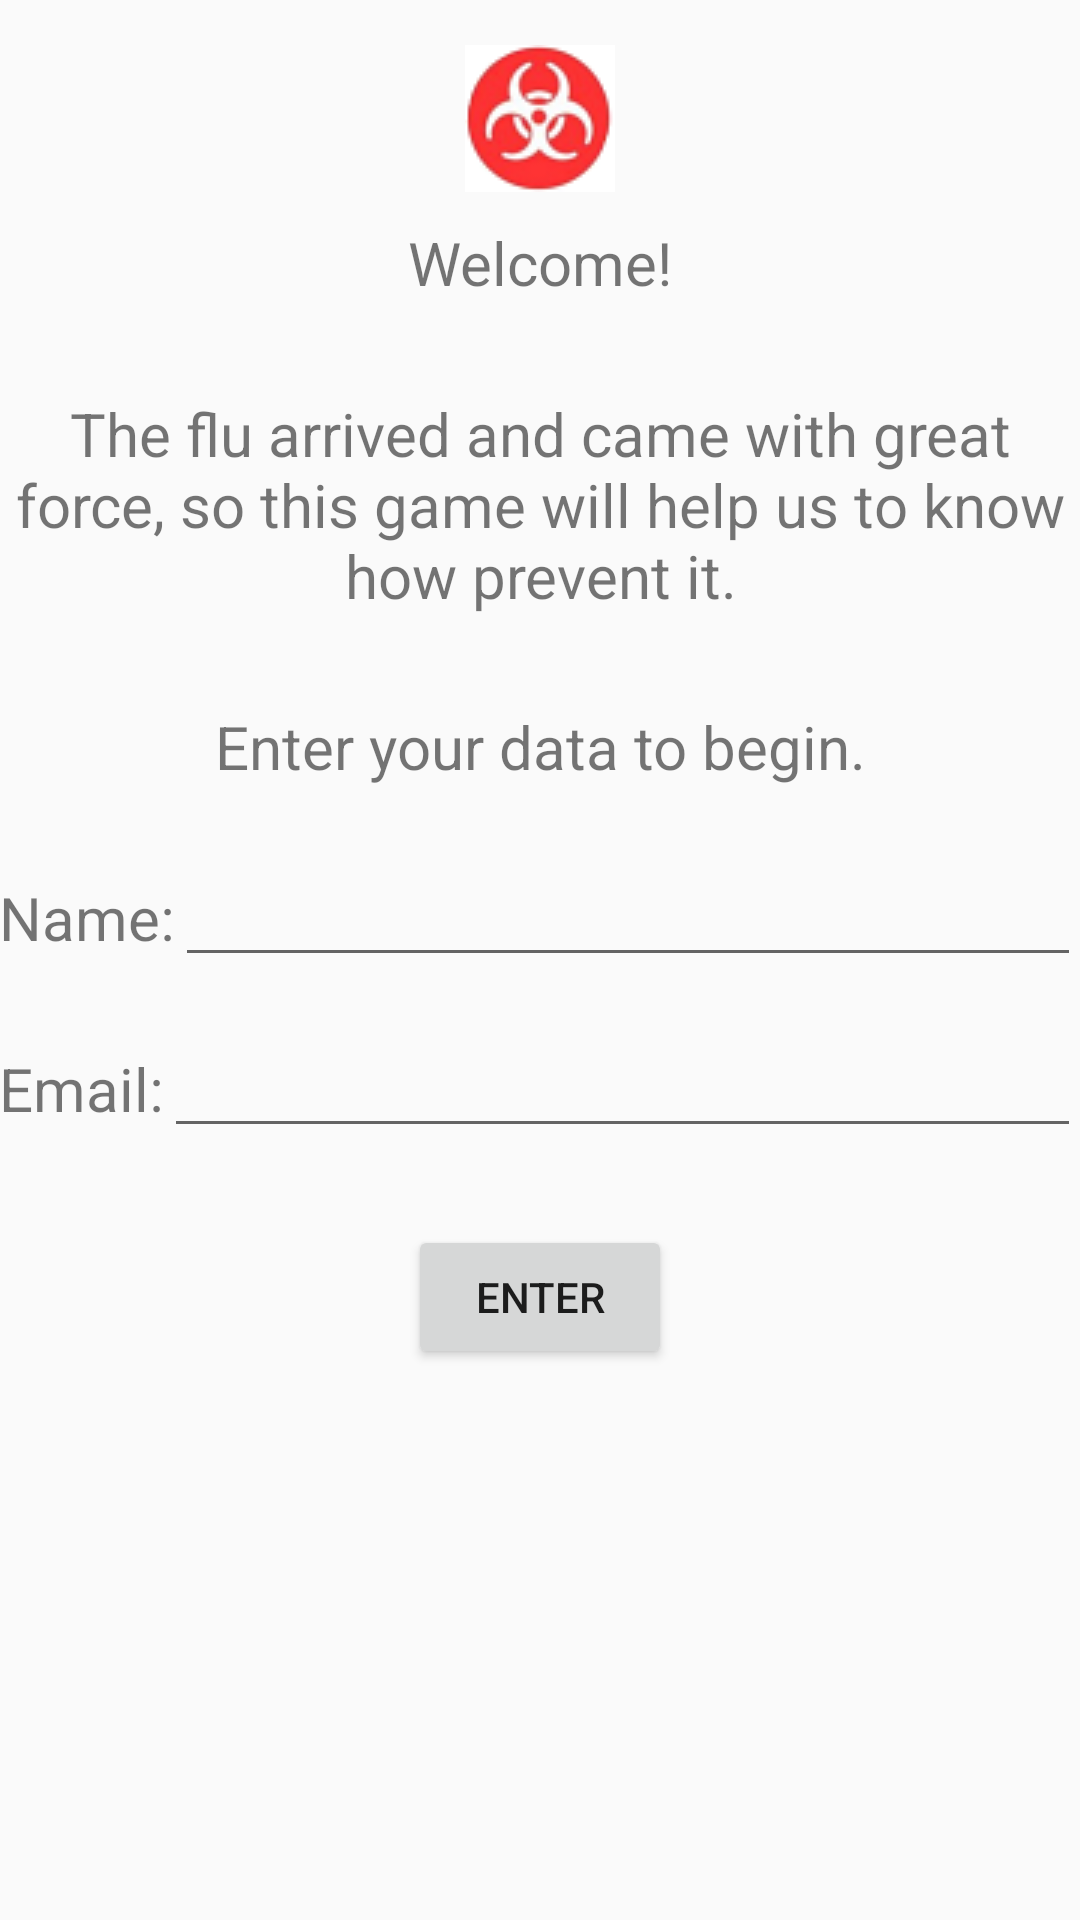

Icons on this 1080*1920 Android screen, each with the point to tap as (x,y):
caution: (539,117)
